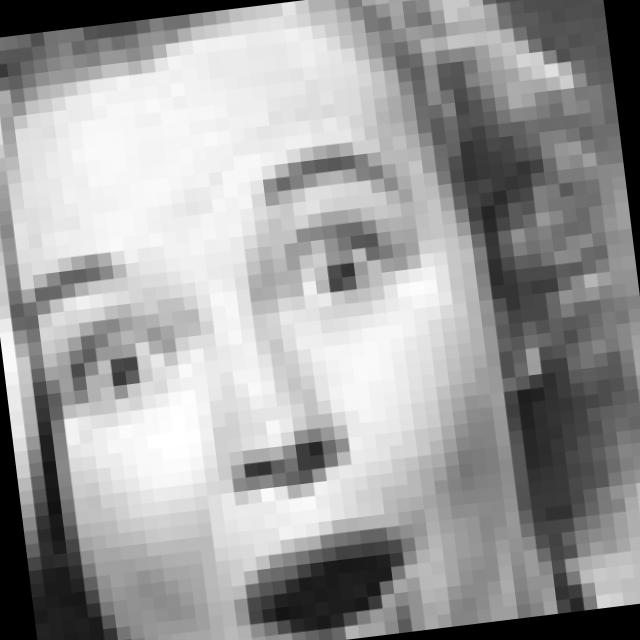surprise: (6, 126, 476, 640)
